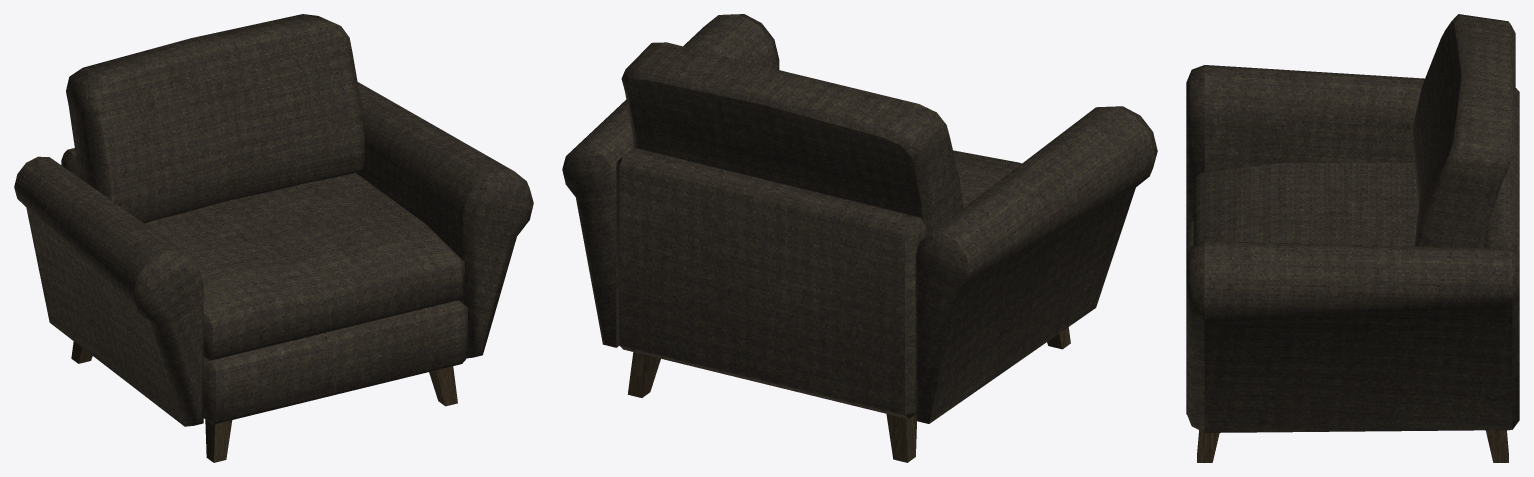
File: armchair_1_3.glb
3 renders of one model, left to right at view 1: azimuth 30°, elevation 25°; view 2: azimuth 150°, elevation 25°; view 3: azimuth 270°, elevation 25°, orthographic. The views are drawn at different scales.
Visible parts, largest first — view 1: armchair_1_3; view 2: armchair_1_3; view 3: armchair_1_3.
Part boxes in pixels (x1,y1,x2,y2): armchair_1_3: (14,14,533,462); armchair_1_3: (562,14,1157,462); armchair_1_3: (1186,14,1519,462).
Bounding box in the file's own units: 1.49 × 1.07 × 0.99.
Materials: 2 (2 with a texture image).
